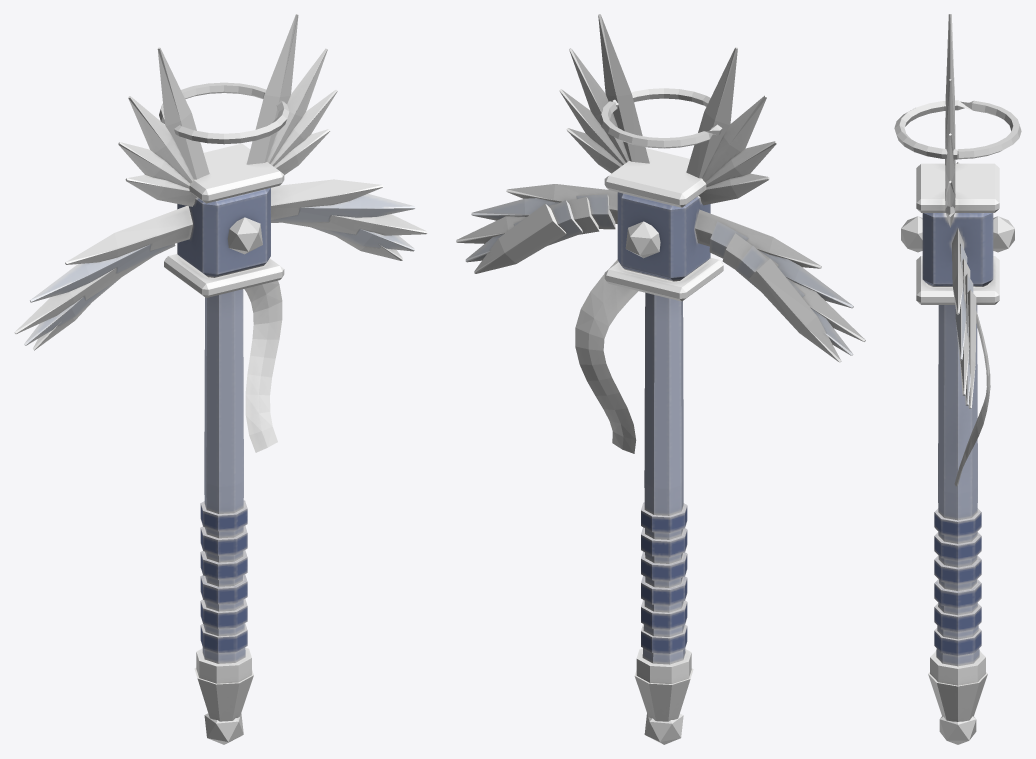
File: SilverWingPickaxe.glb
3 renders of one model, left to right at view 1: azimuth 30°, elevation 25°; view 2: azimuth 150°, elevation 25°; view 3: azimuth 270°, elevation 25°, orthographic. The views are drawn at different scales.
Visible parts, largest first — view 1: Body__Tex, Head__Accent, Head__Gem; view 2: Body__Tex, Head__Accent, Head__Gem; view 3: Body__Tex, Head__Accent, Head__Gem.
Part boxes in pixels (box(x1,y1,x2,y2)): Body__Tex: box(14, 48, 427, 721); Head__Accent: box(157, 14, 298, 179); Head__Gem: box(204, 217, 262, 744); Body__Tex: box(456, 48, 865, 721); Head__Accent: box(598, 14, 737, 178); Head__Gem: box(625, 221, 683, 744); Body__Tex: box(916, 133, 999, 721); Head__Accent: box(894, 14, 1021, 197); Head__Gem: box(901, 216, 1014, 744).
Size of the model in its own units: 3.01 by 5.01 by 0.8266.
1 material, 1 textured.
